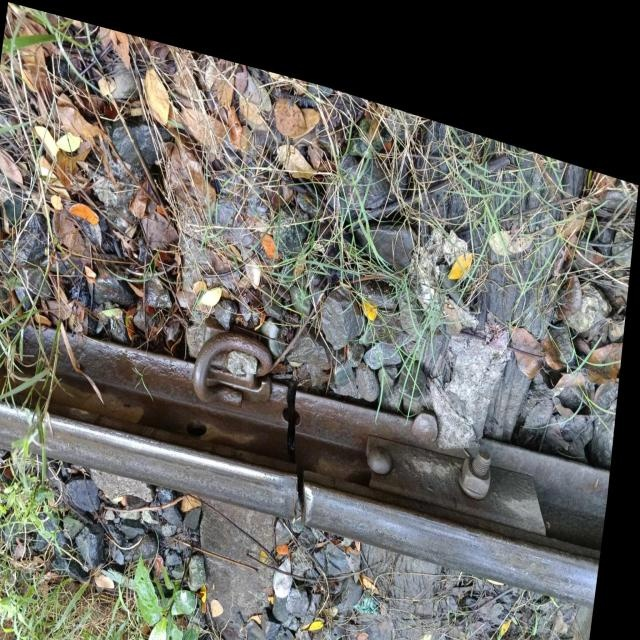obstacle: (256, 364, 344, 533), (180, 387, 220, 453)
